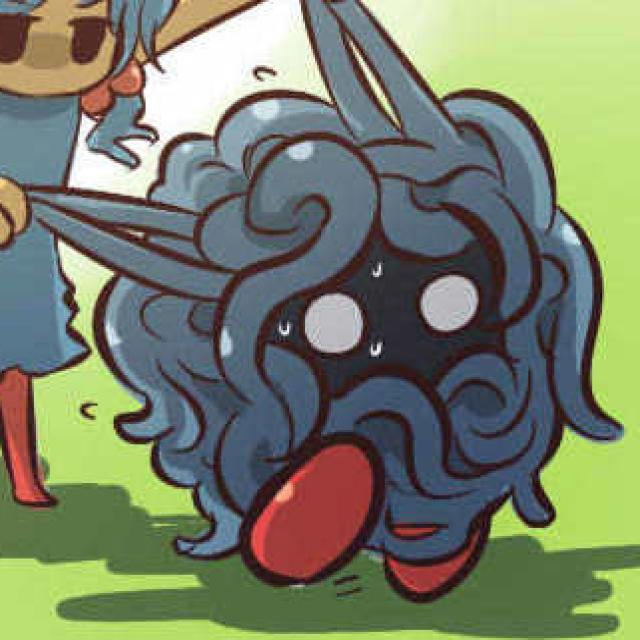Tangela: (148, 91, 581, 602)
